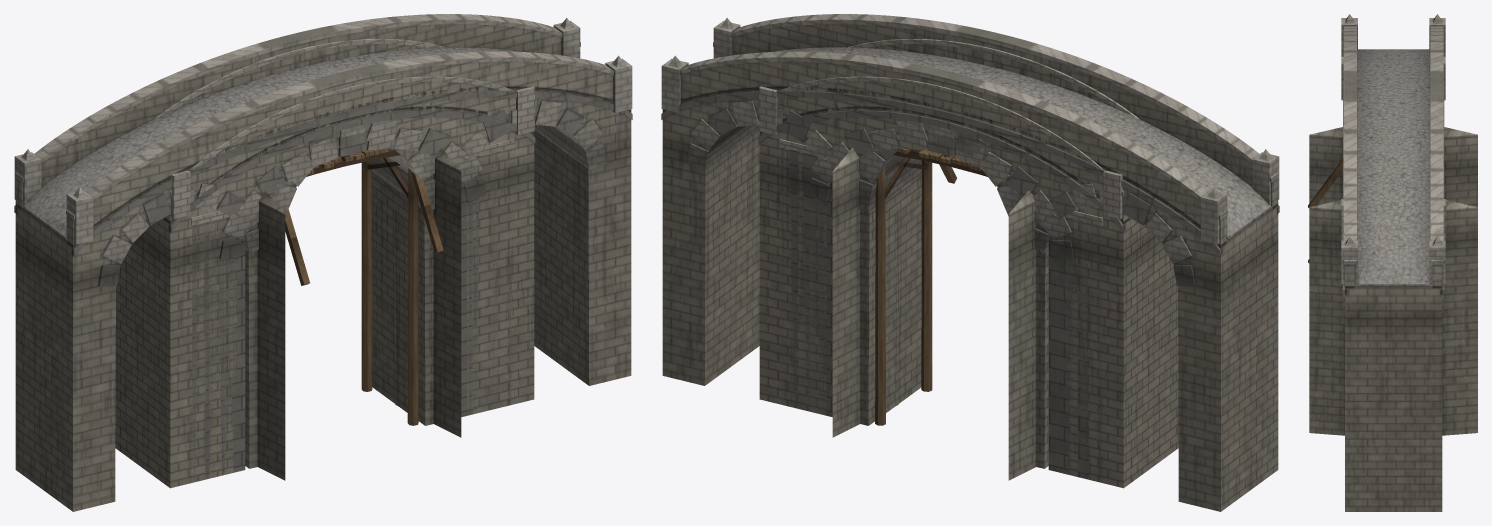
The model's file is bridges.glb.
3 views of the same model, side by side, from view 1: azimuth 30°, elevation 25°; view 2: azimuth 150°, elevation 25°; view 3: azimuth 270°, elevation 25° (orthographic). The views are drawn at different scales.
Visible parts, largest first — view 1: Bridge_Stone_3, Bridge_Stone_1, Bridge_Wood; view 2: Bridge_Stone_3, Bridge_Stone_1, Bridge_Wood; view 3: Bridge_Stone_3, Bridge_Wood, Bridge_Stone_1.
Part boxes in pixels (left/top/right/bottom): Bridge_Stone_3: left=14, top=14, right=632, bottom=511; Bridge_Stone_1: left=115, top=39, right=535, bottom=488; Bridge_Wood: left=191, top=139, right=514, bottom=481; Bridge_Stone_3: left=661, top=14, right=1279, bottom=511; Bridge_Stone_1: left=758, top=39, right=1178, bottom=488; Bridge_Wood: left=779, top=139, right=1102, bottom=481; Bridge_Stone_3: left=1309, top=14, right=1477, bottom=511; Bridge_Wood: left=1308, top=158, right=1342, bottom=262; Bridge_Stone_1: left=1341, top=56, right=1445, bottom=240.
Bounding box in the file's own units: 4.6 × 2.89 × 1.43.
3 materials, 3 textured.
